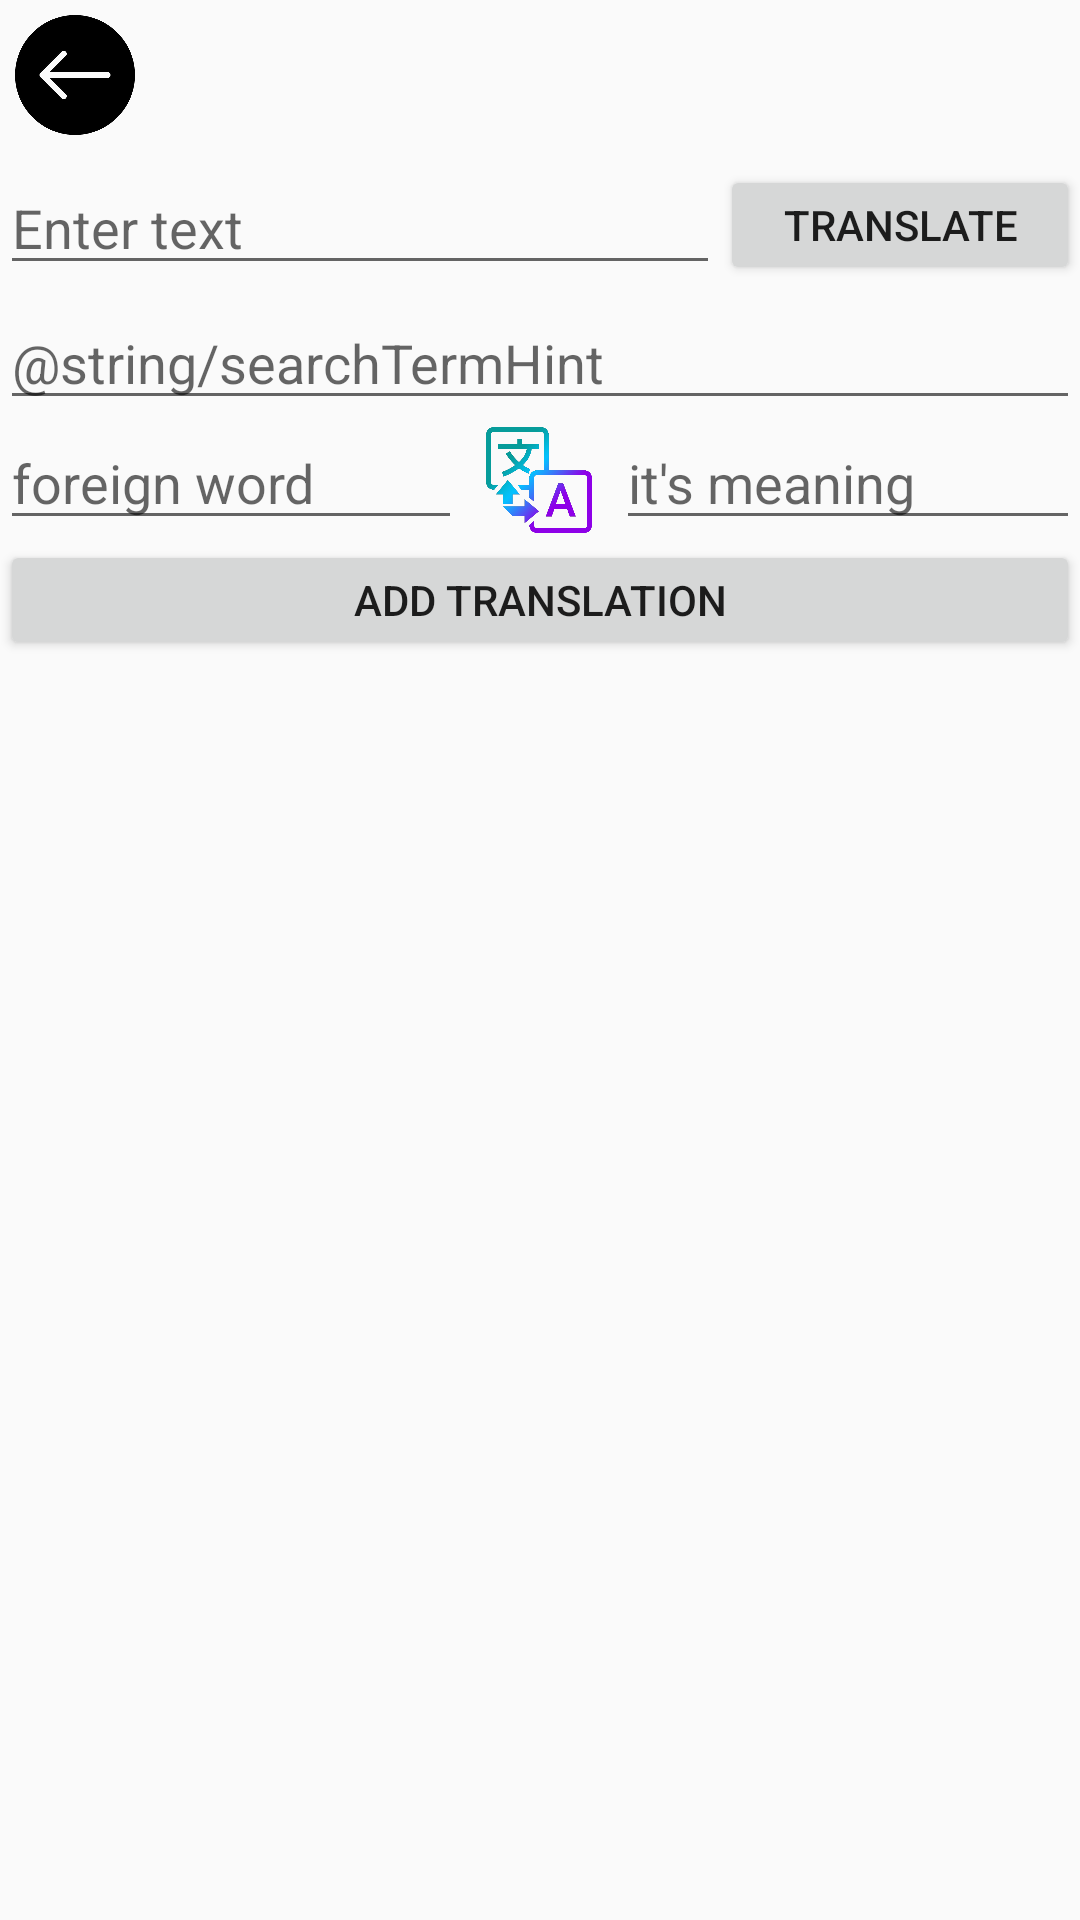

Icons on this 1080*1920 Android screen, each with its box as (x1, y1, x2, y2):
backicon: (15, 15, 135, 135)
